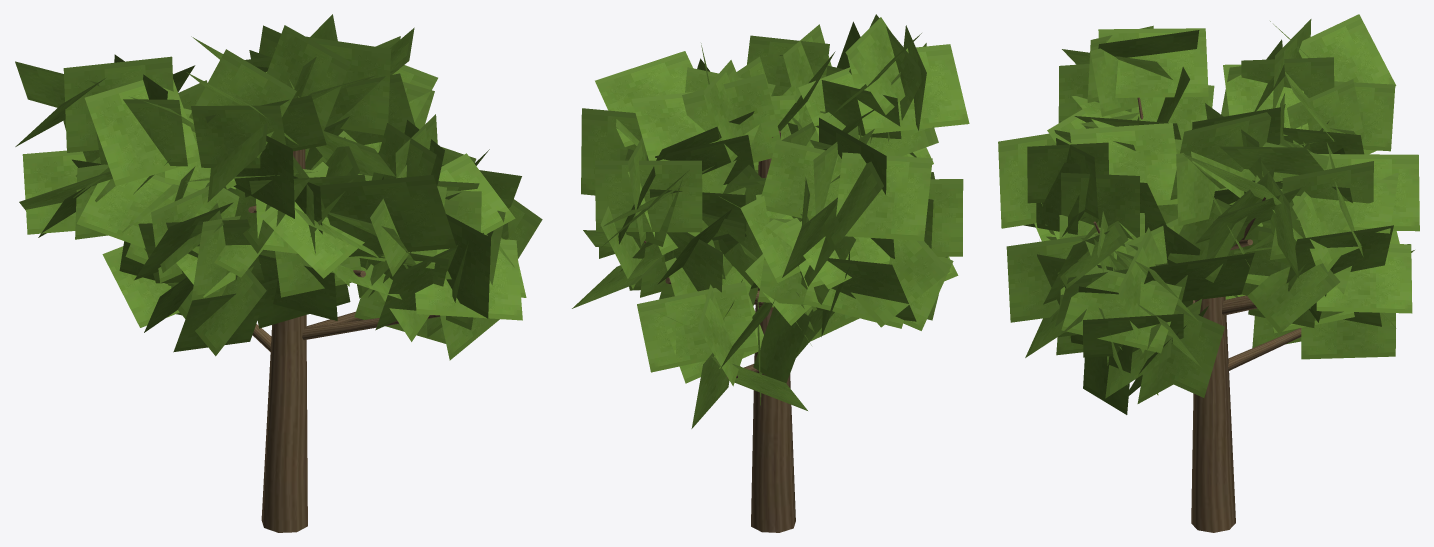
The picture shows the model from 3 angles, left to right: view 1: azimuth 30°, elevation 25°; view 2: azimuth 150°, elevation 25°; view 3: azimuth 270°, elevation 25°; orthographic projection. The views are drawn at different scales.
Visible parts, largest first — view 1: oak-leaf, oak-bark; view 2: oak-leaf, oak-bark; view 3: oak-leaf, oak-bark.
Boxes of the visible parts, left/top/right/bottom form: oak-leaf: left=15, top=14, right=542, bottom=360; oak-bark: left=248, top=149, right=440, bottom=532; oak-leaf: left=572, top=14, right=969, bottom=428; oak-bark: left=644, top=131, right=795, bottom=532; oak-leaf: left=998, top=14, right=1419, bottom=414; oak-bark: left=1093, top=97, right=1301, bottom=532.
Bounding box in the file's own units: 8.59 × 9.58 × 7.9.
2 materials, 2 textured.
